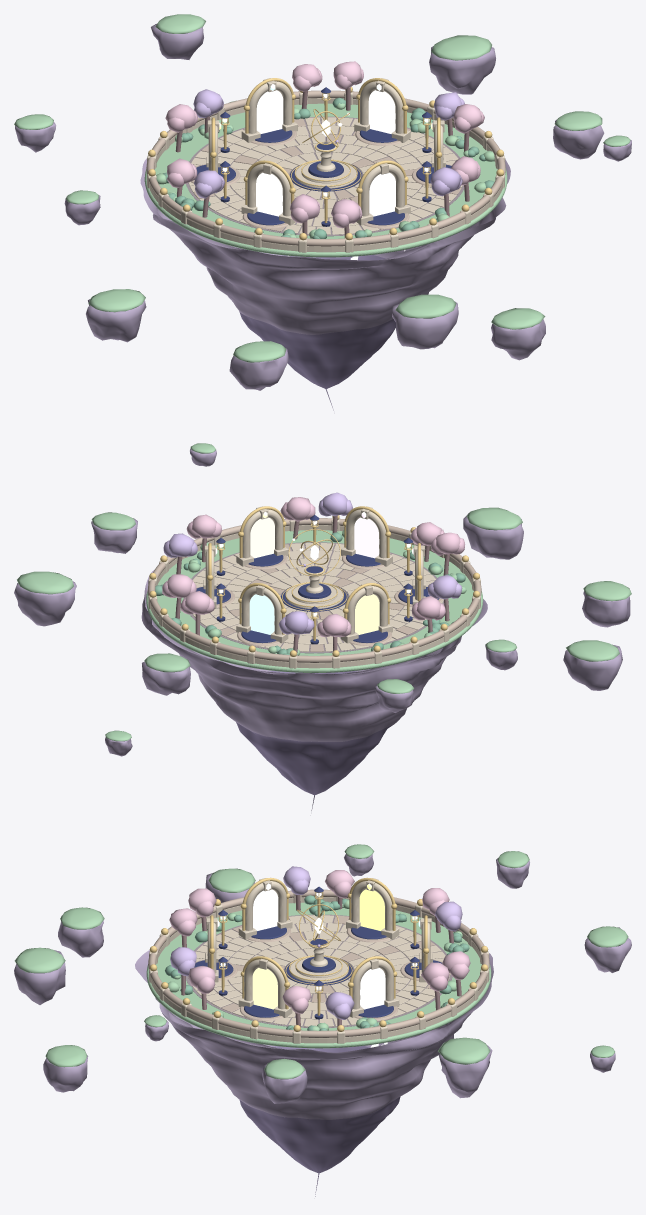
Rendered from hub.draco.glb.
3 views of the same model, one above another, from view 1: azimuth 30°, elevation 25°; view 2: azimuth 150°, elevation 25°; view 3: azimuth 270°, elevation 25° (orthographic). The views are drawn at different scales.
Parts seen in each view (by area): view 1: island_rock, plaza_tiles, island_top, parapet_cap, float_rock_1, float_rock_8, bushes, parapet_wall, float_rock_6, parapet_posts, float_rock_7, float_rock_9 (+30 smaller); view 2: island_rock, plaza_tiles, island_top, parapet_cap, float_rock_1, float_rock_8, parapet_wall, float_rock_6, parapet_posts, float_rock_7, float_rock_3, float_rock_0 (+29 smaller); view 3: island_rock, plaza_tiles, island_top, parapet_cap, parapet_wall, float_rock_1, float_rock_8, parapet_posts, bushes, float_rock_7, float_rock_9, plaza_bed (+31 smaller).
Boxes of the visible parts, x1,y1,x2,y2 form: island_rock: (140, 158, 510, 410); plaza_tiles: (188, 117, 462, 234); island_top: (144, 103, 507, 257); parapet_cap: (146, 90, 505, 246); float_rock_1: (429, 35, 495, 94); float_rock_8: (392, 294, 458, 349); bushes: (156, 97, 494, 238); parapet_wall: (149, 98, 502, 252); float_rock_6: (86, 289, 146, 342); parapet_posts: (147, 87, 505, 252); float_rock_7: (229, 341, 288, 390); float_rock_9: (491, 308, 545, 360); island_rock: (141, 570, 487, 810); plaza_tiles: (192, 543, 442, 651); island_top: (146, 530, 483, 672); parapet_cap: (147, 518, 481, 662); float_rock_1: (14, 571, 76, 626); float_rock_8: (463, 507, 523, 559); parapet_wall: (150, 525, 478, 668); float_rock_6: (563, 640, 622, 690); parapet_posts: (148, 515, 480, 668); float_rock_7: (582, 581, 631, 627); float_rock_3: (142, 653, 190, 695); float_rock_0: (91, 512, 137, 553); island_rock: (135, 950, 493, 1196); plaza_tiles: (188, 915, 450, 1026); island_top: (146, 902, 491, 1048); parapet_cap: (148, 889, 489, 1037); parapet_wall: (151, 897, 486, 1043); float_rock_1: (438, 1037, 492, 1098); float_rock_8: (14, 947, 65, 1004); parapet_posts: (149, 893, 489, 1043); bushes: (165, 895, 469, 1030); float_rock_7: (58, 907, 104, 957); float_rock_9: (43, 1045, 88, 1092); plaza_bed: (186, 914, 452, 1027).
Size of what is drawn, in the model's own units: 65.15 by 35.1 by 68.11.
